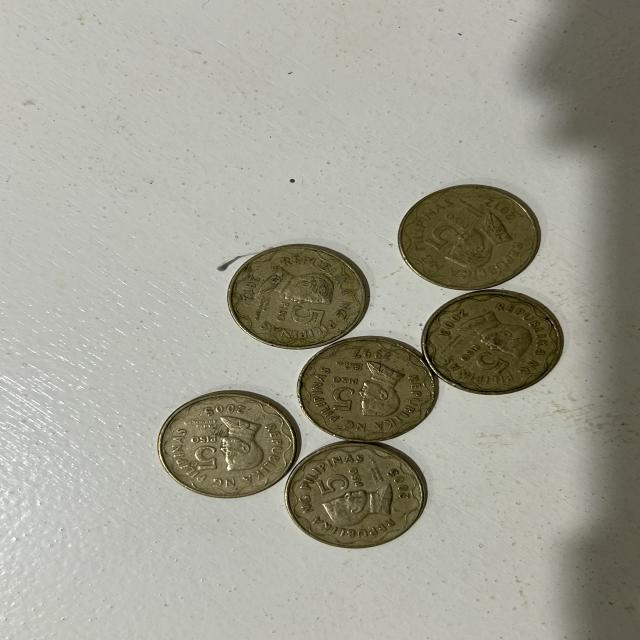5_Old_Front: (452, 341, 506, 386), (269, 294, 329, 328), (422, 208, 465, 248), (191, 433, 225, 478), (313, 466, 369, 488), (325, 378, 354, 416)
